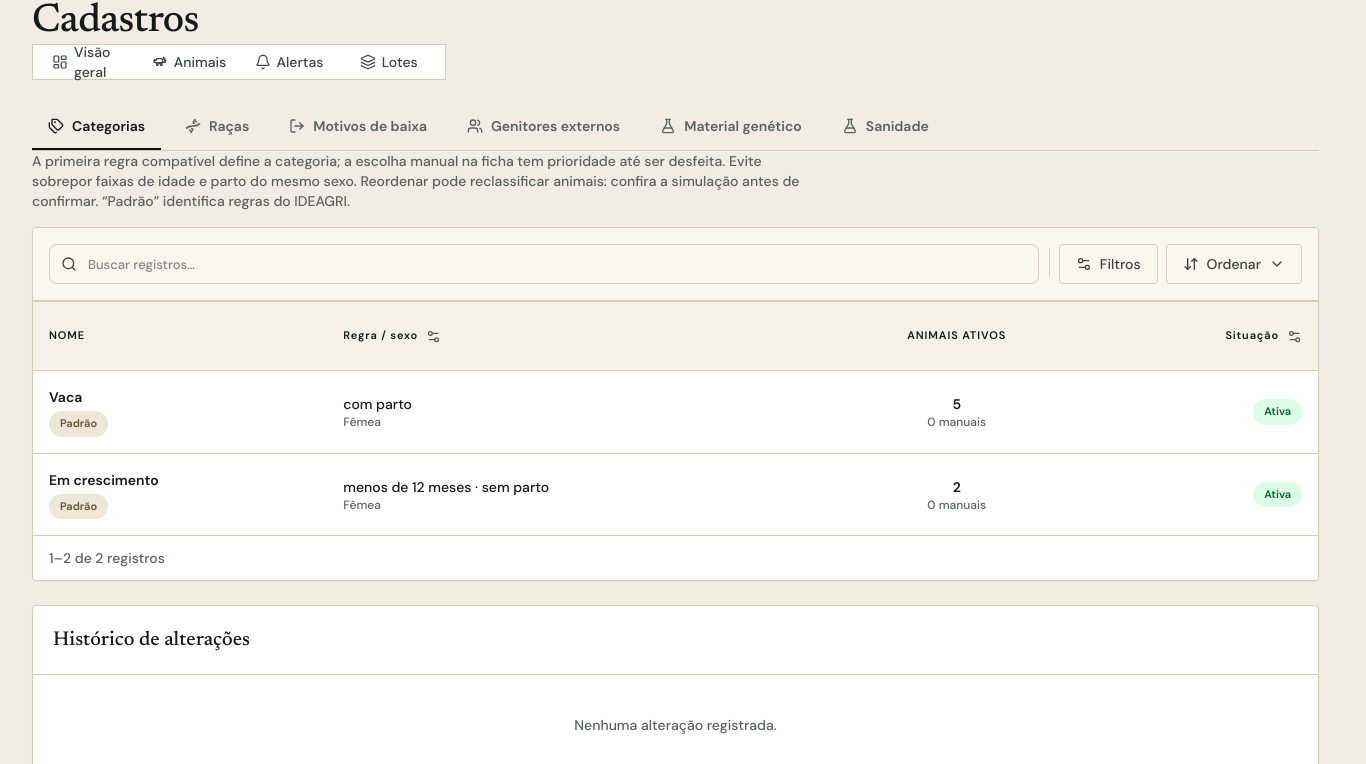
Cadastros do rebanho — permissão de leitura (K7) › usuário só de leitura mantém os filtros de cada aba utilizáveis, sem ações de escrita
Step 1. Click the button "Filtros" → (1108, 264), box [1059, 244, 1158, 284]
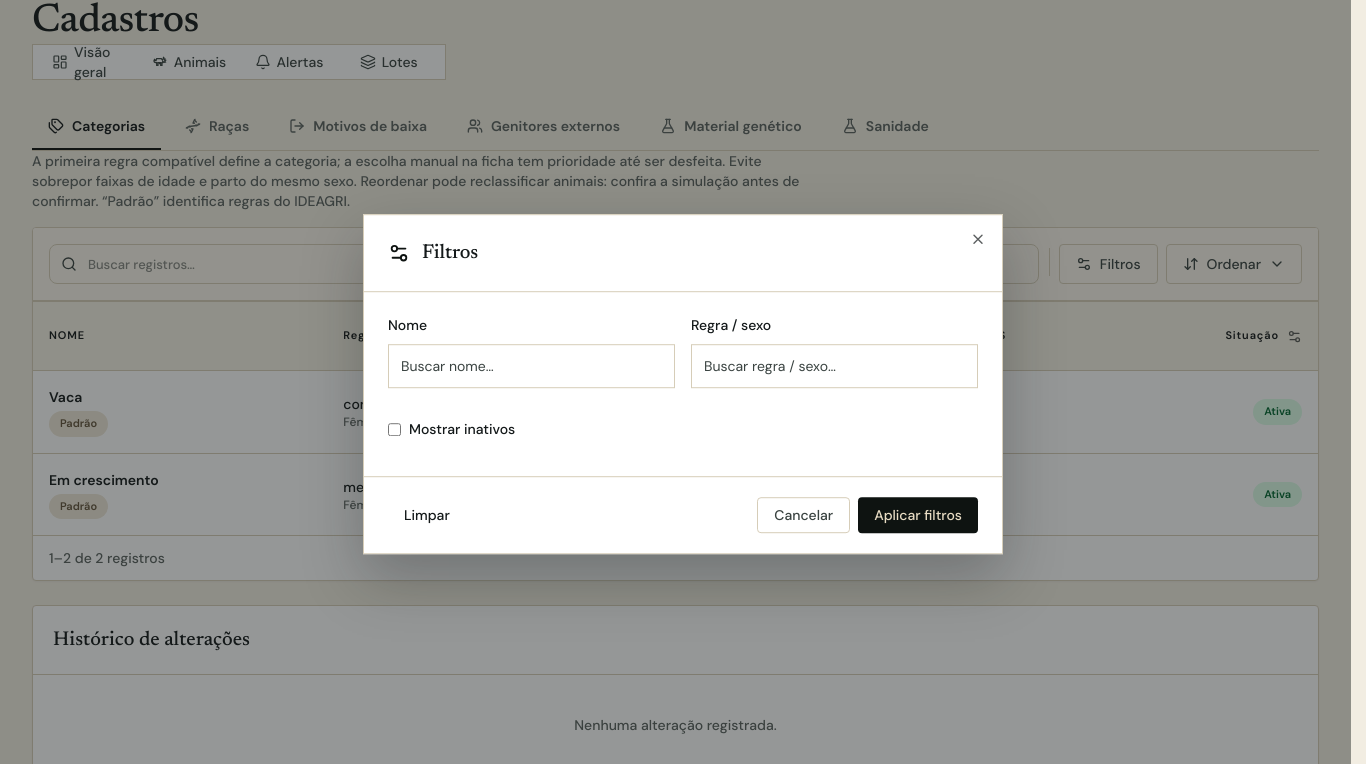
Expected: the checkbox labelled "Mostrar inativos" is enabled
Step 2. Click the checkbox labelled "Mostrar inativos" → (394, 430), box [388, 423, 401, 436]
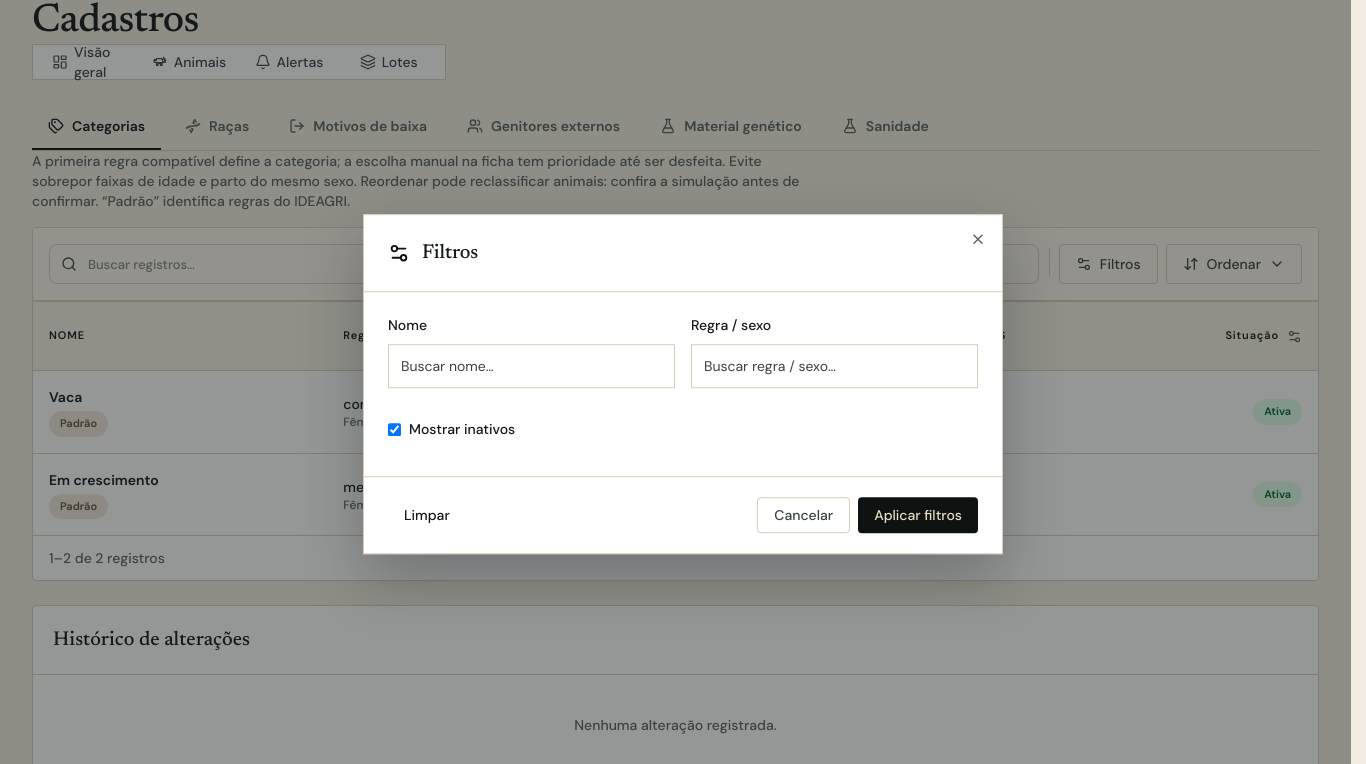
Step 3. Click the button "Aplicar filtros" → (918, 515), box [858, 497, 978, 533]
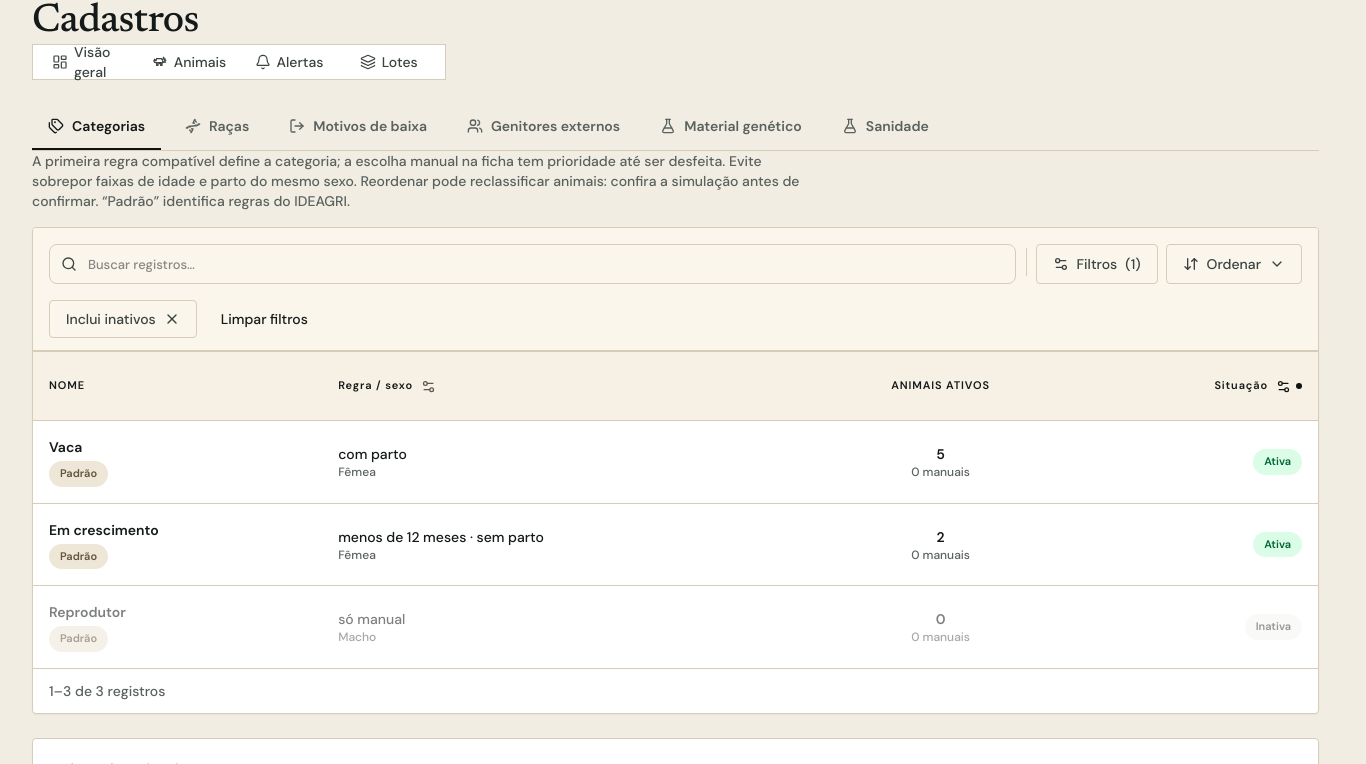
Expected: the element that starts with "Filtros" is enabled, [33, 228, 1318, 713]
Expected: the text "Reprodutor" is shown, [49, 603, 126, 621]
